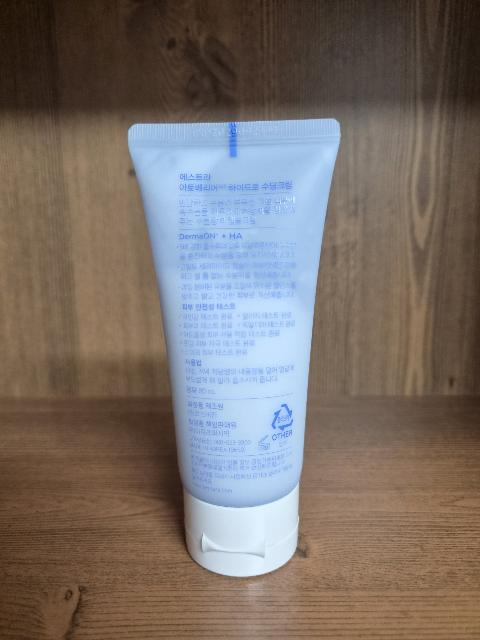handcream: (128, 117, 341, 577)
